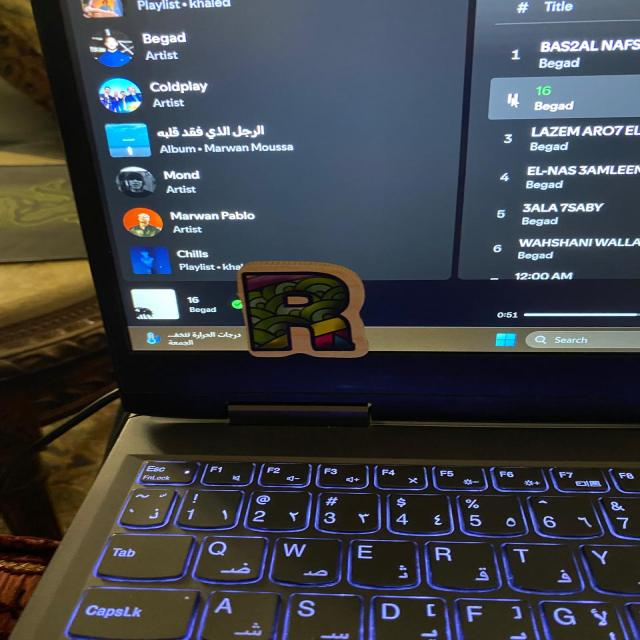R: (237, 262, 368, 357)
